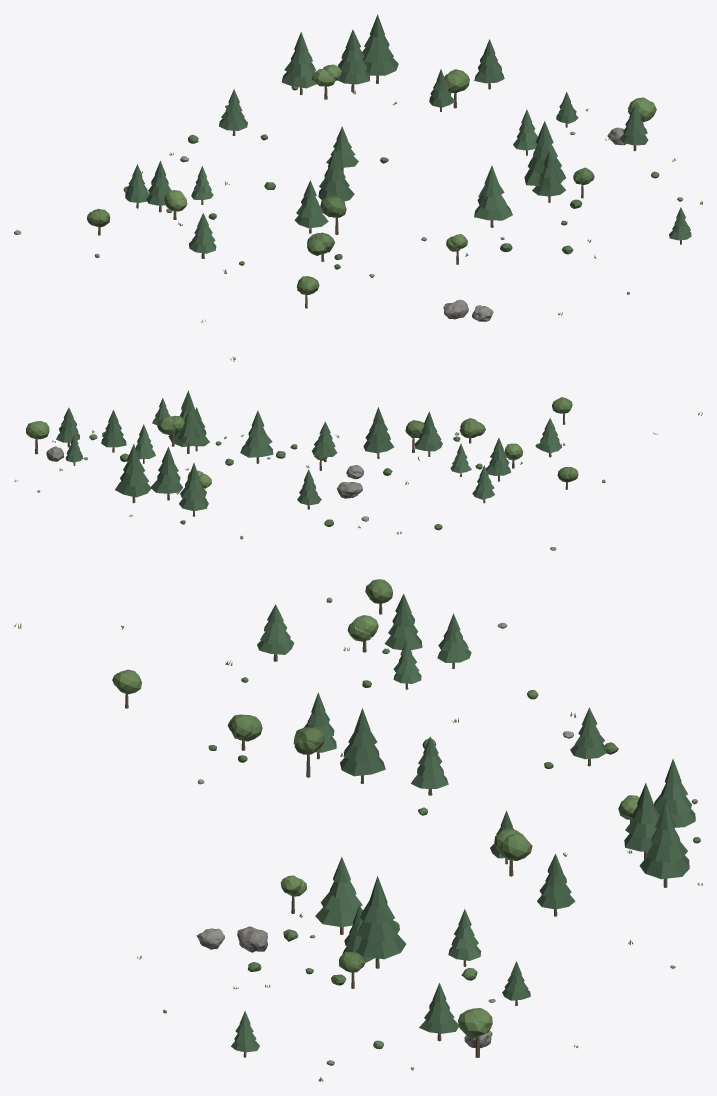
The model's file is arch_land_scatter_c23_18.glb.
3 renders of one model, top to bottom at view 1: azimuth 30°, elevation 25°; view 2: azimuth 150°, elevation 25°; view 3: azimuth 270°, elevation 25°, orthographic. The views are drawn at different scales.
Parts seen in each view (by area): view 1: arch_land_scatter_c23_18; view 2: arch_land_scatter_c23_18; view 3: arch_land_scatter_c23_18.
Part boxes in pixels (x1,y1,x2,y2): arch_land_scatter_c23_18: (14, 14, 702, 361); arch_land_scatter_c23_18: (14, 390, 702, 550); arch_land_scatter_c23_18: (14, 579, 702, 1081).
Bounding box in the file's own units: 151 × 39.13 × 114.
